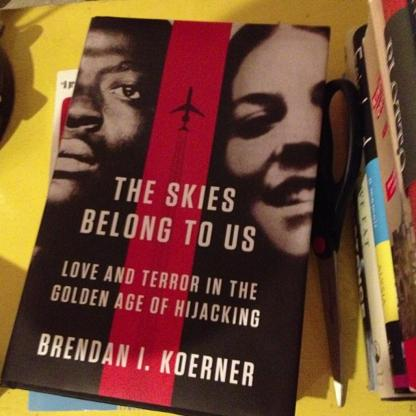book: (0, 12, 330, 415), (27, 68, 189, 411), (333, 0, 415, 413)
